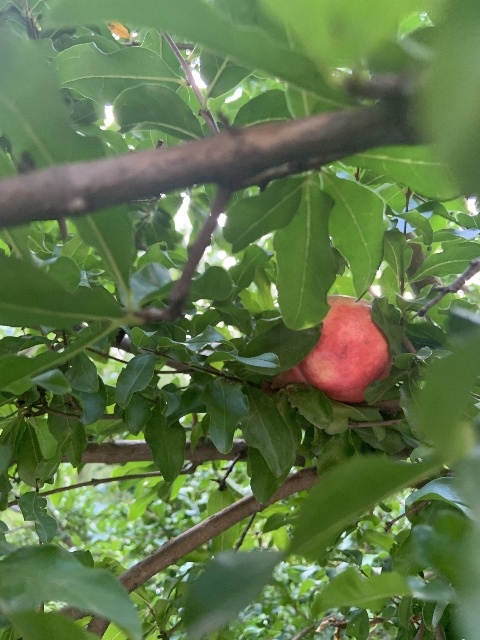ripe: (270, 294, 393, 403)
